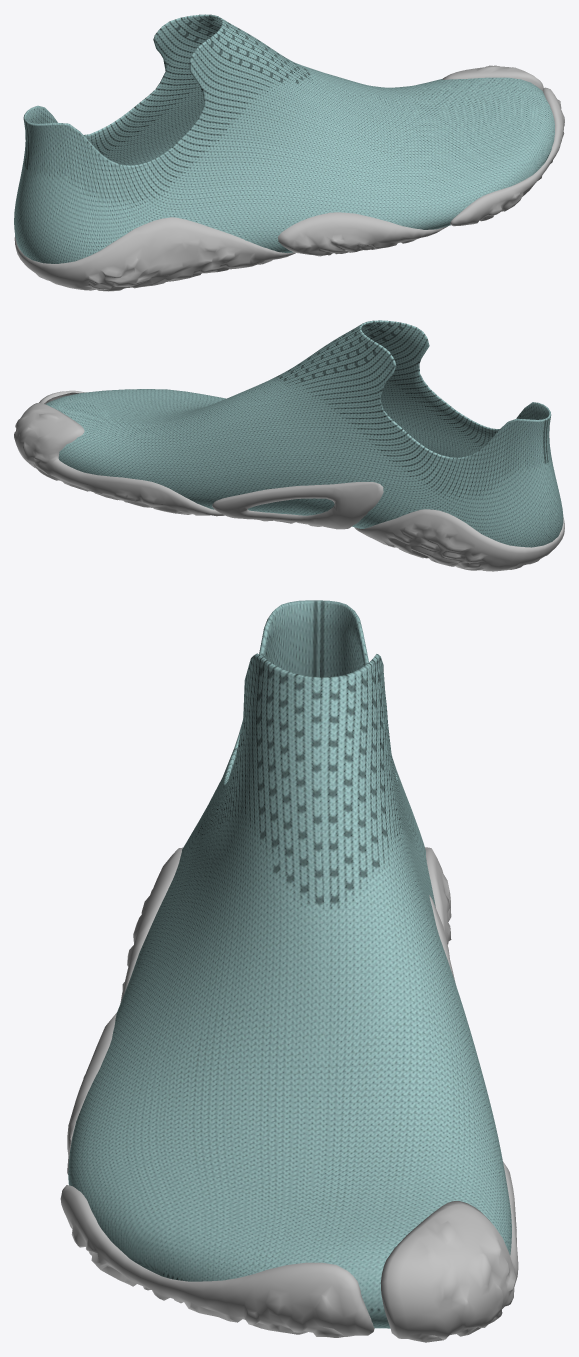
The model's file is pod.glb.
3 renders of one model, top to bottom at view 1: azimuth 30°, elevation 25°; view 2: azimuth 150°, elevation 25°; view 3: azimuth 270°, elevation 25°, orthographic. The views are drawn at different scales.
Parts seen in each view (by area): view 1: Pod_Onroad.001; view 2: Pod_Onroad.001; view 3: Pod_Onroad.001.
Part boxes in pixels (bbox=[...]): Pod_Onroad.001: bbox=[14, 14, 564, 291]; Pod_Onroad.001: bbox=[14, 320, 564, 571]; Pod_Onroad.001: bbox=[60, 600, 518, 1342].
Bounding box in the file's own units: 0.4258 × 0.1627 × 0.1653.
1 material, 1 textured.
